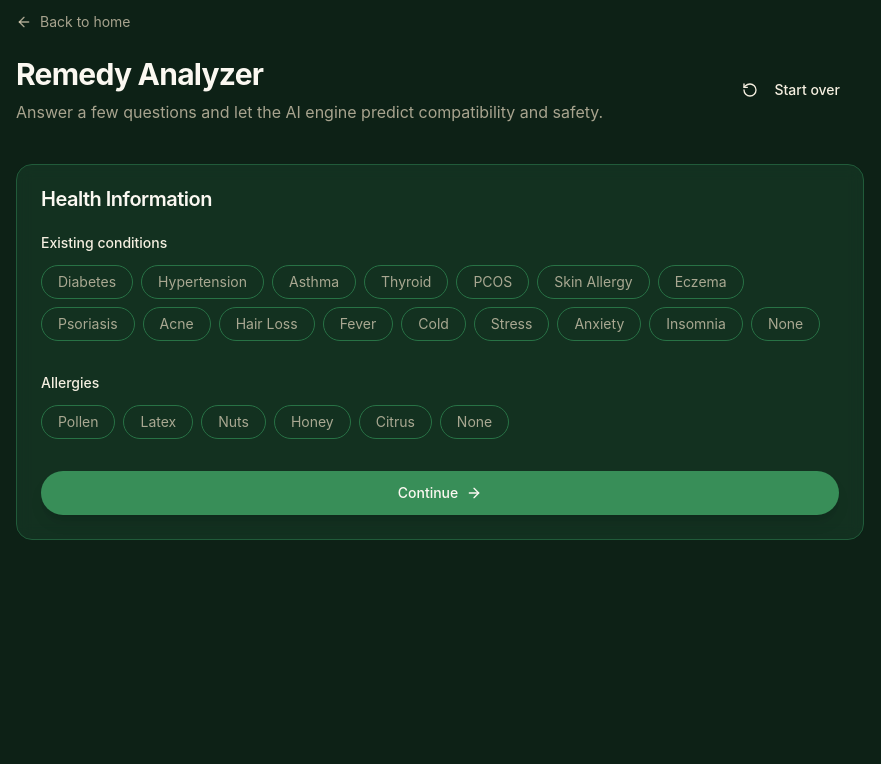
RemedyForm › displays an error when the analysis API fails
What coordinates should you click on to do the following:
click the button "Continue"
I would click on:
 (440, 493)
Its box is left=41, top=471, right=839, bottom=515.
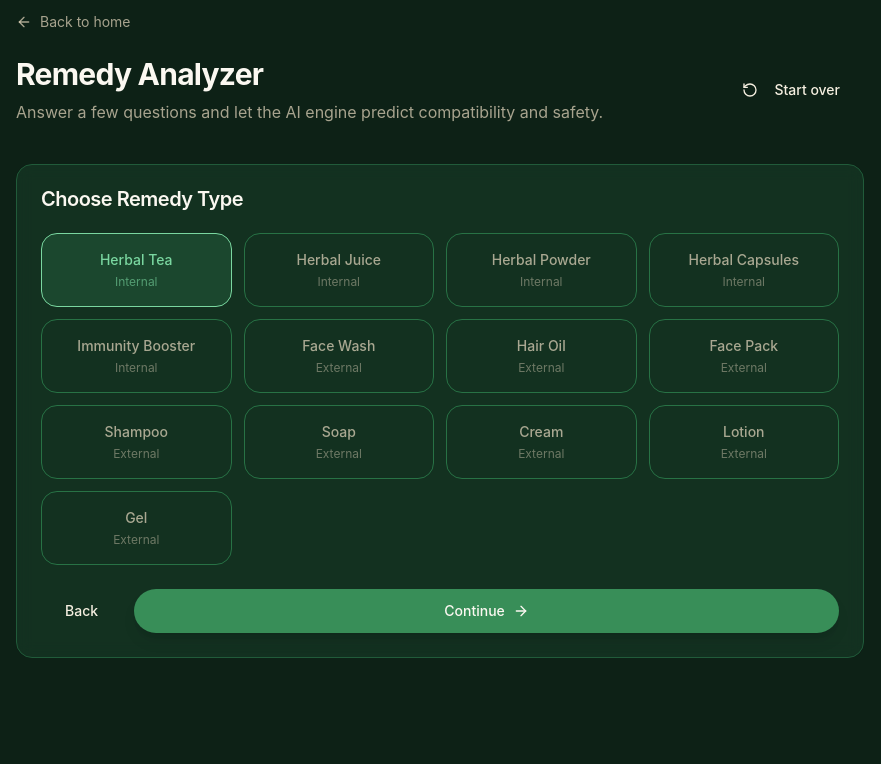
What coordinates should you click on to do the following:
click the button "Continue"
I would click on:
 (487, 611)
Its box is left=134, top=589, right=839, bottom=633.
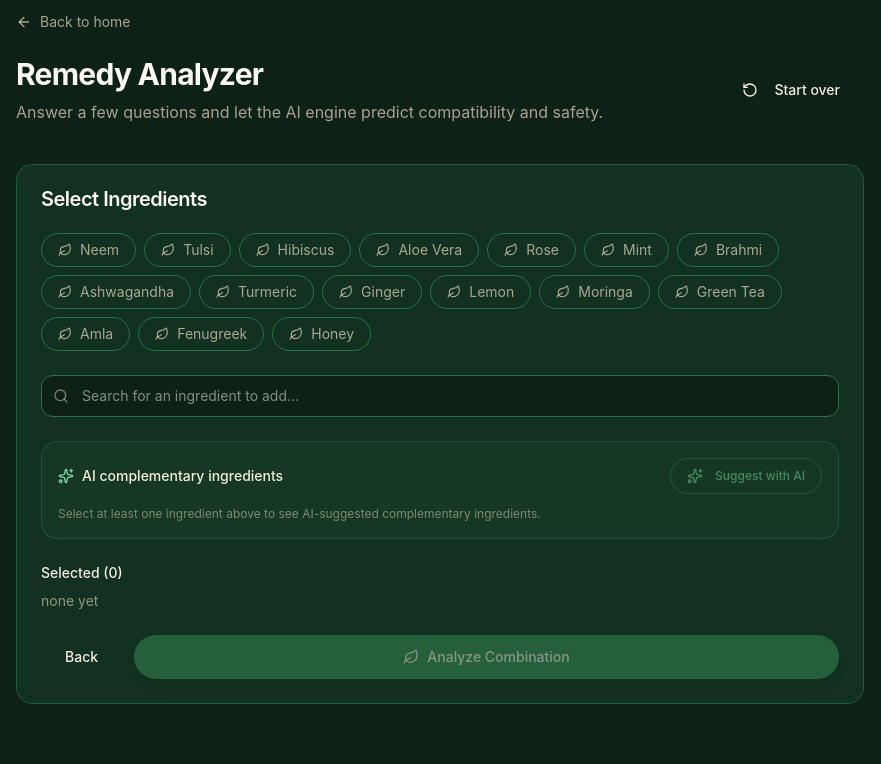
What coordinates should you click on to do the following:
click the button "Tulsi"
I would click on:
 (187, 250)
Its box is left=144, top=233, right=231, bottom=267.
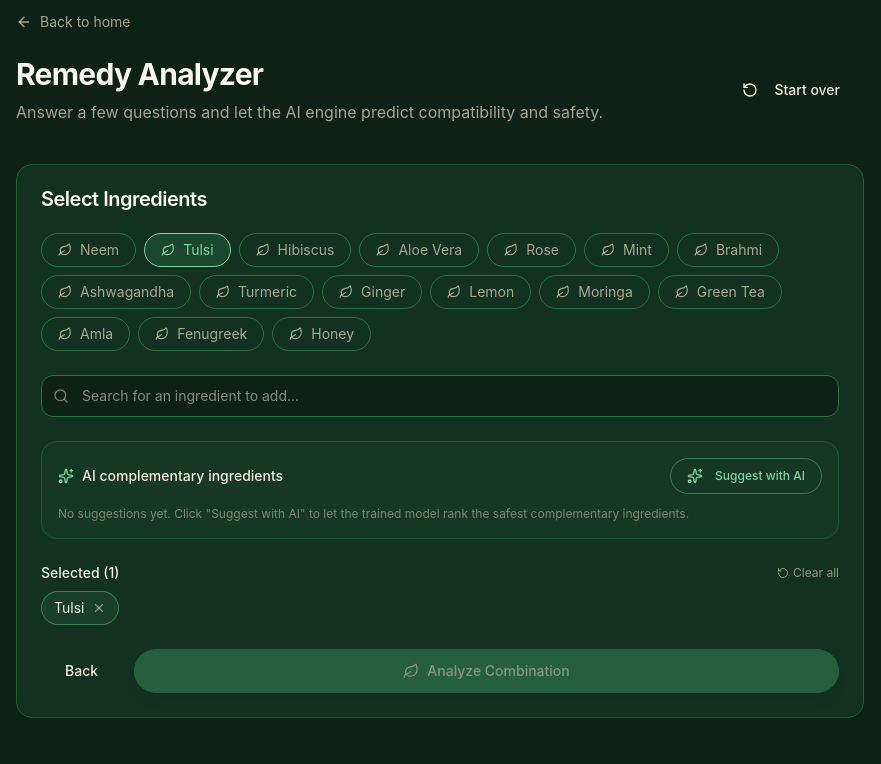
What coordinates should you click on to do the following:
click the button "Ginger"
I would click on:
 (372, 292)
Its box is left=322, top=275, right=422, bottom=309.
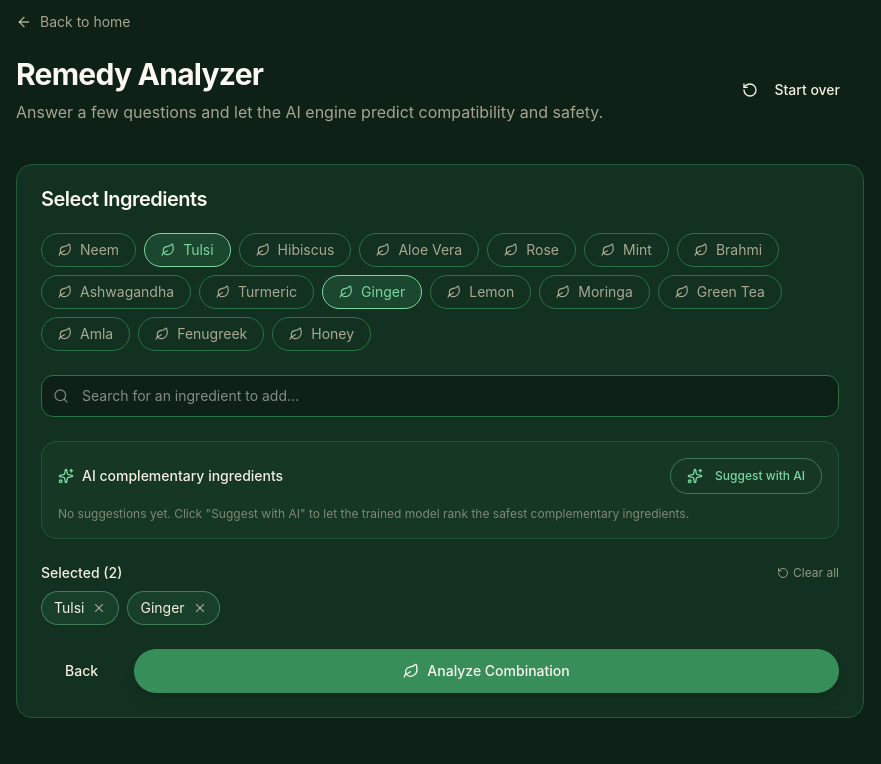
What coordinates should you click on to do the following:
click the button "Analyze Combination"
I would click on:
 (487, 671)
Its box is left=134, top=649, right=839, bottom=693.
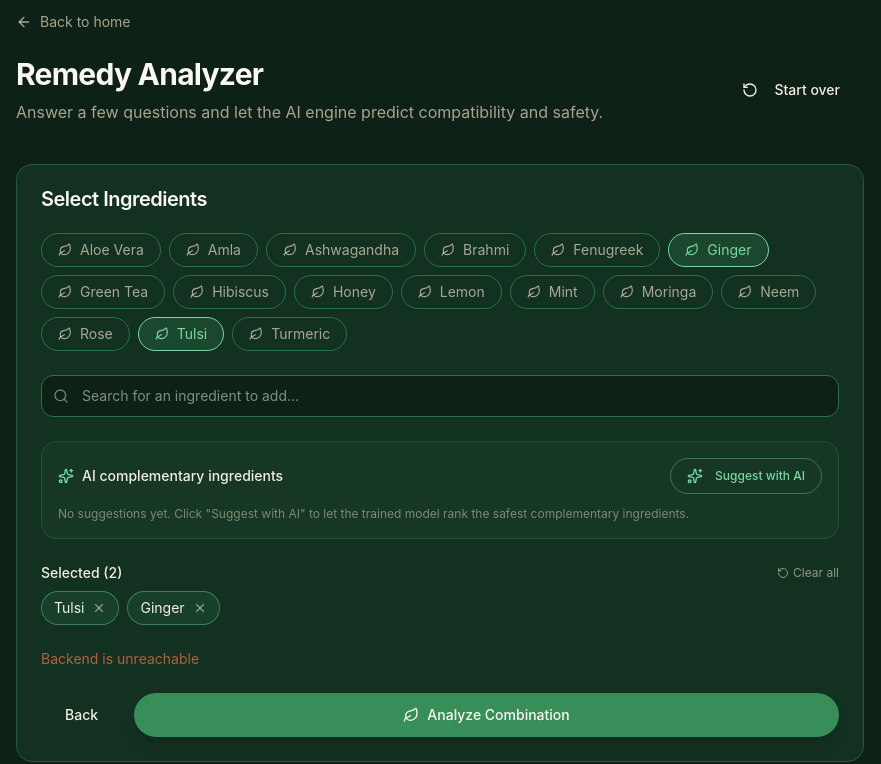
Now the text "Backend is unreachable" is shown, box left=41, top=650, right=199, bottom=667
